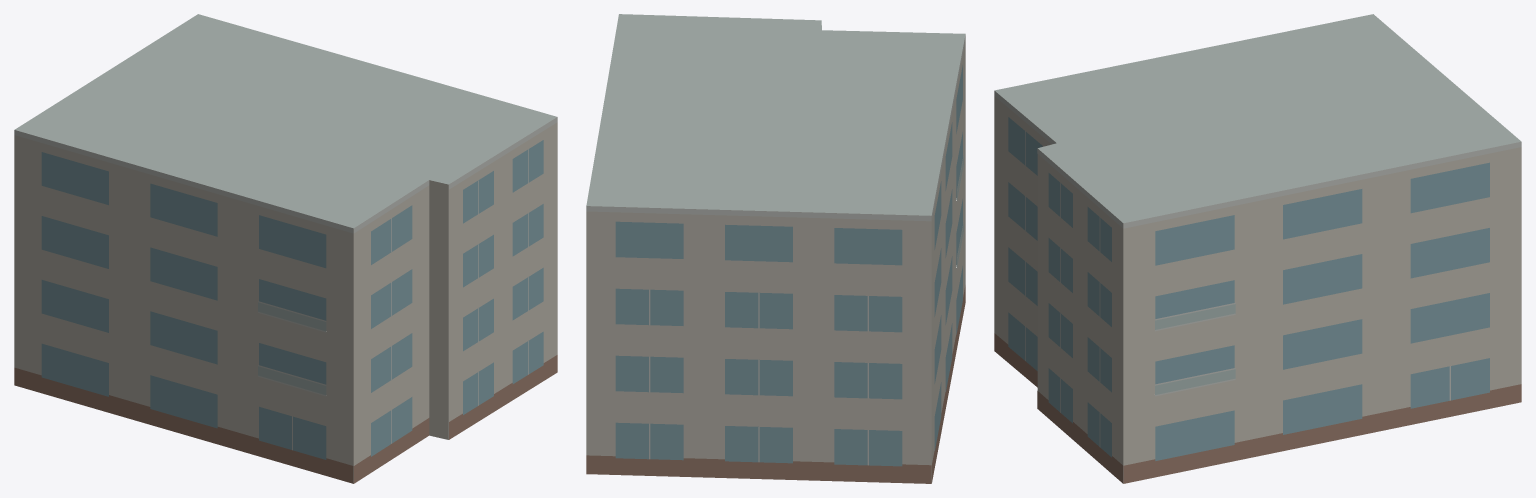
File: survey-upis-32667273.glb
3 views of the same model, side by side, from view 1: azimuth 30°, elevation 25°; view 2: azimuth 150°, elevation 25°; view 3: azimuth 270°, elevation 25° (orthographic). The views are drawn at different scales.
Visible parts, largest first — view 1: survey-upis-32667273.tmp; view 2: survey-upis-32667273.tmp; view 3: survey-upis-32667273.tmp.
Boxes of the visible parts, x1,y1,x2,y2 form: survey-upis-32667273.tmp: [14, 14, 557, 483]; survey-upis-32667273.tmp: [586, 14, 965, 483]; survey-upis-32667273.tmp: [994, 14, 1521, 483].
Size of the model in its own units: 20.51 by 11.9 by 21.84.
